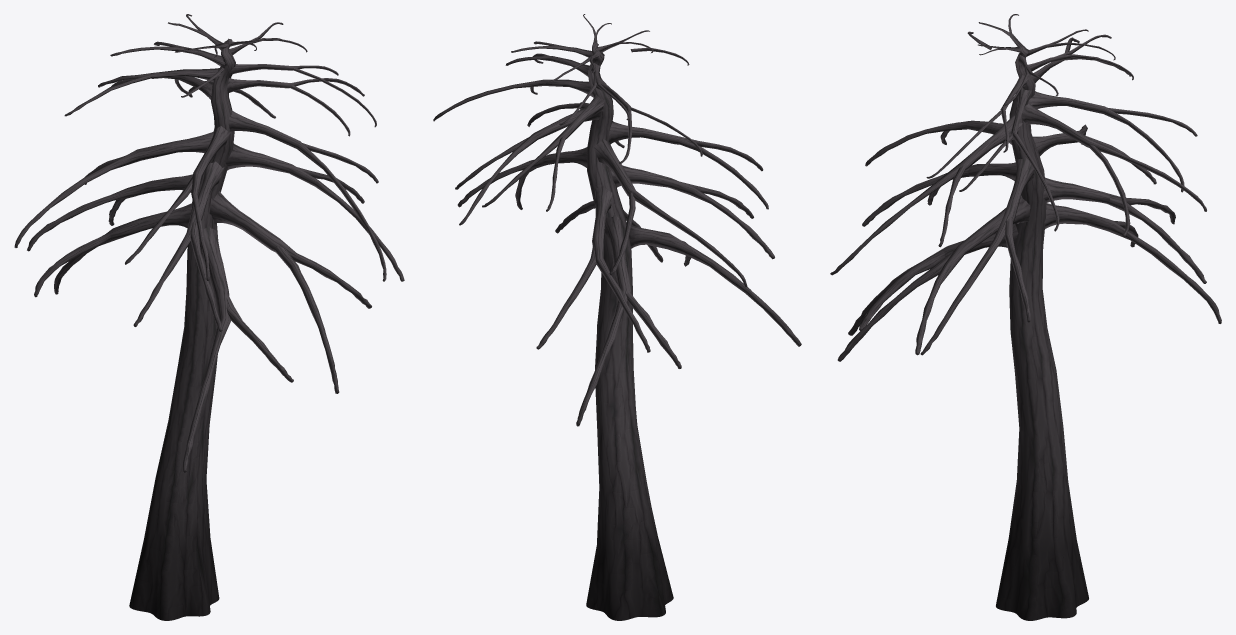
Rendered from DeadTree_4.gltf.
3 renders of one model, left to right at view 1: azimuth 30°, elevation 25°; view 2: azimuth 150°, elevation 25°; view 3: azimuth 270°, elevation 25°, orthographic. The views are drawn at different scales.
Parts seen in each view (by area): view 1: DeadTree_4; view 2: DeadTree_4; view 3: DeadTree_4.
Boxes of the visible parts, <box> form: DeadTree_4: <box>14,14,404,620</box>; DeadTree_4: <box>433,14,801,620</box>; DeadTree_4: <box>830,14,1221,620</box>.
Size of the model in its own units: 7.96 by 12.77 by 7.73.
Materials: 1 (1 with a texture image).
